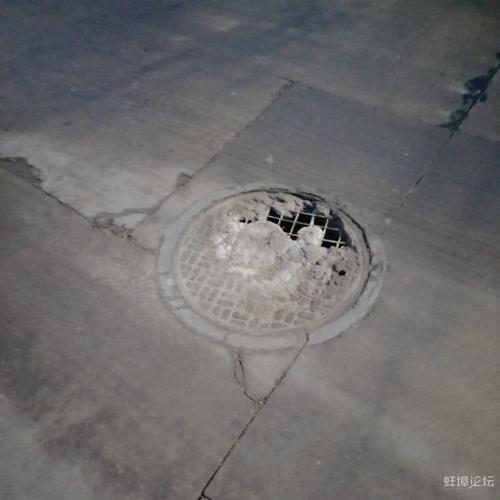broke: (150, 174, 390, 347)
